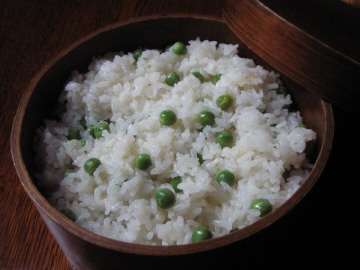plain rice: (52, 46, 305, 232)
